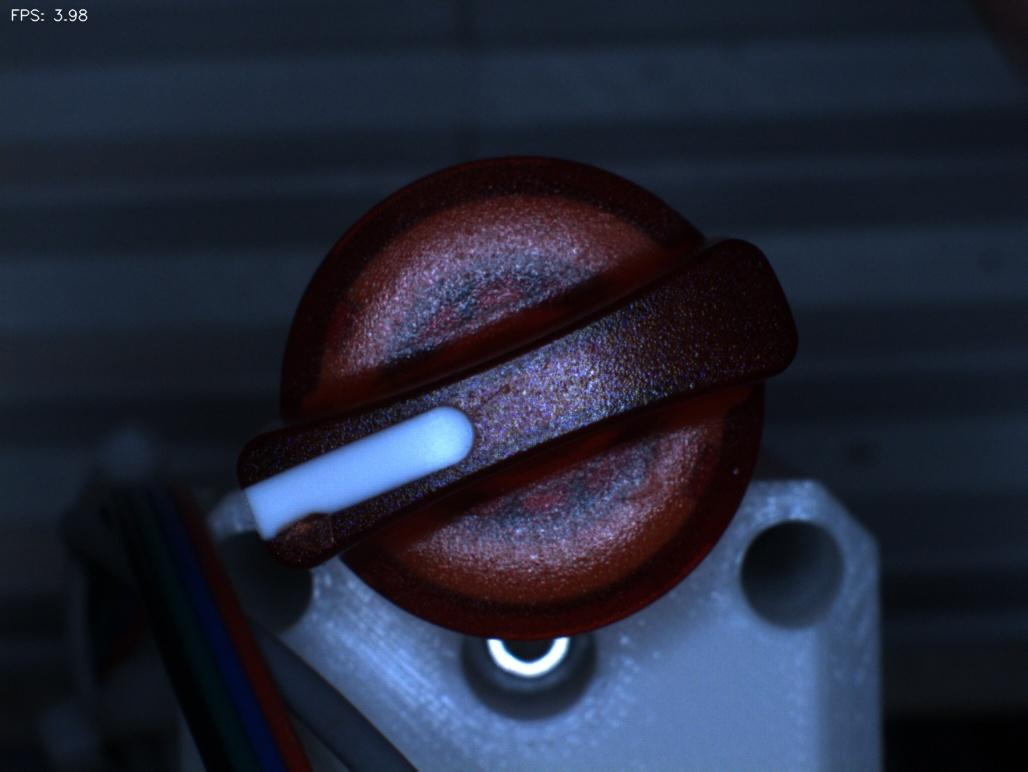Choc: (261, 496, 351, 588)
